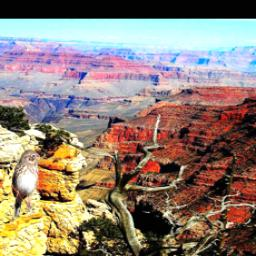Sparrow: (11, 148, 42, 219)
